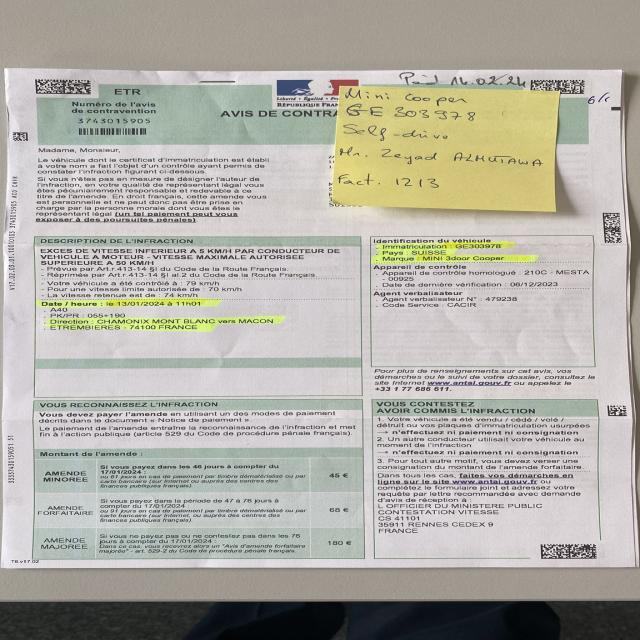paper-document-: (4, 70, 637, 569)
